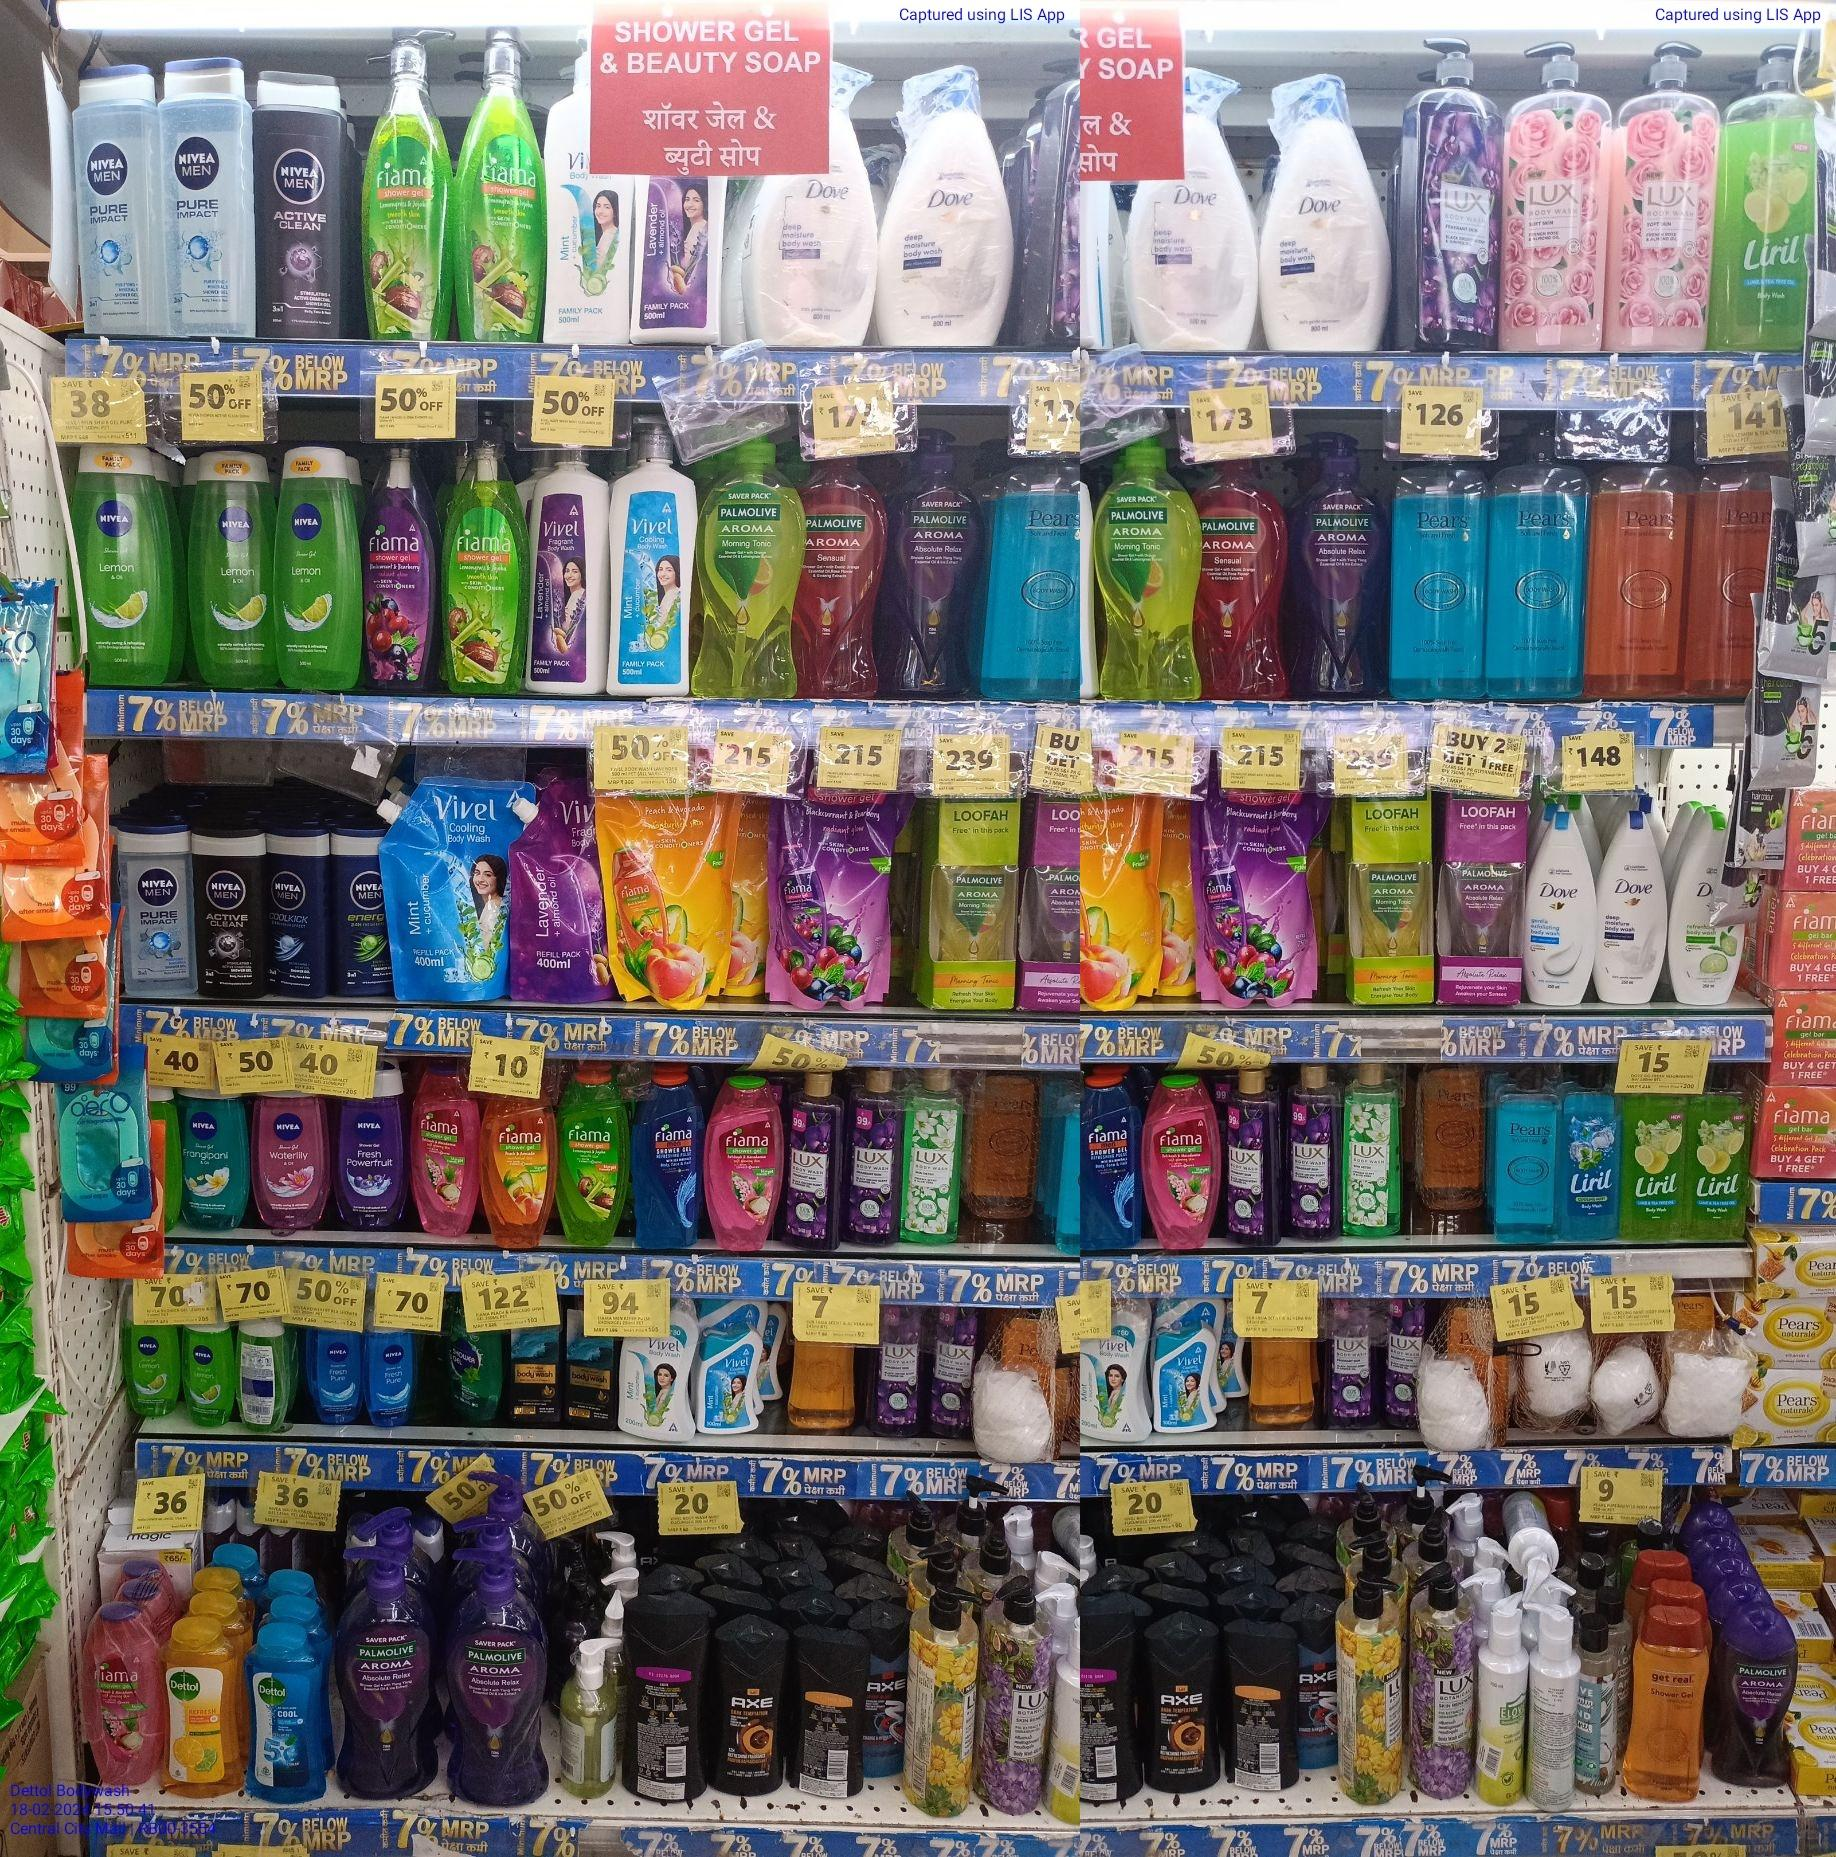Dettol_Bodywash_Cool: (242, 1622, 324, 1803)
Dettol_Bodywash_Refresh: (166, 1620, 240, 1803)
Dove_Deep_Moisture_Body_Wash_250ML: (1604, 804, 1665, 1006)
Dove_Gentle_Exfoliating_Body_Wash_250ML: (1525, 812, 1597, 1009)
Dove_Refreshing_Body_Wash_250ML: (1671, 816, 1754, 1004)
Fiama_Shower_Gel_Lemongrass_and_Jojoba_250ML: (565, 1063, 624, 1248)
Fiama_Shower_Gel_Patchouli_and_Macadamia_250ML: (87, 1605, 161, 1786), (706, 1073, 775, 1262), (412, 1066, 483, 1235)
Fiama_Shower_Gel_Peach_and_Avocado_250ML: (486, 1095, 558, 1253)
Get_Real_Shower_Gel_Moisturising_Glycerin_300ML: (1633, 1608, 1701, 1805)
Liril_Cooling_Mint_Body_Wash_250ML: (1565, 1078, 1614, 1241)
Liril_Lime_and_Tea_Tree_Oil_Body_Wash_250ML: (1688, 1087, 1745, 1238), (1626, 1097, 1685, 1243)
Lux_Black_Orchid_Scent_and_Juniper_Oil_Body_Wash_245ML: (1221, 1068, 1283, 1248), (780, 1073, 841, 1248), (1285, 1061, 1338, 1243), (844, 1070, 898, 1245)
Lux_Body_Wash_Skin_Detox_Freesia_Scent_and_Alove_Vera_245ML: (900, 1070, 960, 1241), (1343, 1060, 1399, 1230)
Nivea_Shower_Gel_Frangipani_and_Oil_250ML: (182, 1088, 251, 1228)
Nivea_Shower_Gel_Fresh_Powerfruit_250ML: (336, 1063, 407, 1226)
Nivea_Shower_Gel_Lemon_and_Oil_250ML: (76, 444, 170, 690), (282, 437, 367, 695), (193, 451, 277, 690)
Nivea_Shower_Gel_Waterlily_and_Oil_250ML: (261, 1092, 328, 1230)
Palmolive_Aroma_Relax_250ML: (1715, 1608, 1794, 1790)
Pears_Pure_Glycerin_and_Mint_Extracts_Body_Wash_250ML: (1493, 1065, 1560, 1245)
